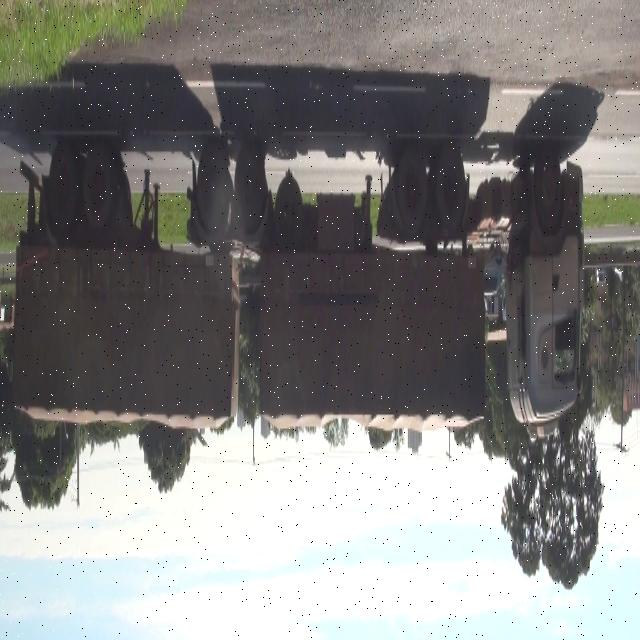-axle: (82, 138, 117, 229), (197, 139, 230, 235), (394, 145, 426, 235), (50, 134, 80, 228), (234, 142, 264, 236), (434, 146, 466, 232), (532, 148, 562, 226)
